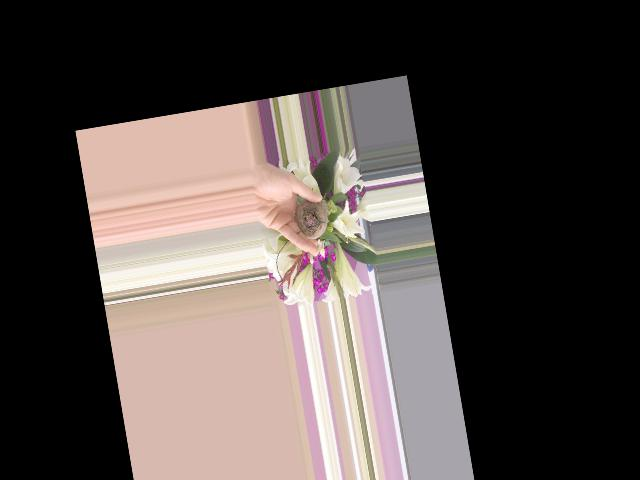beet: (292, 197, 330, 242)
